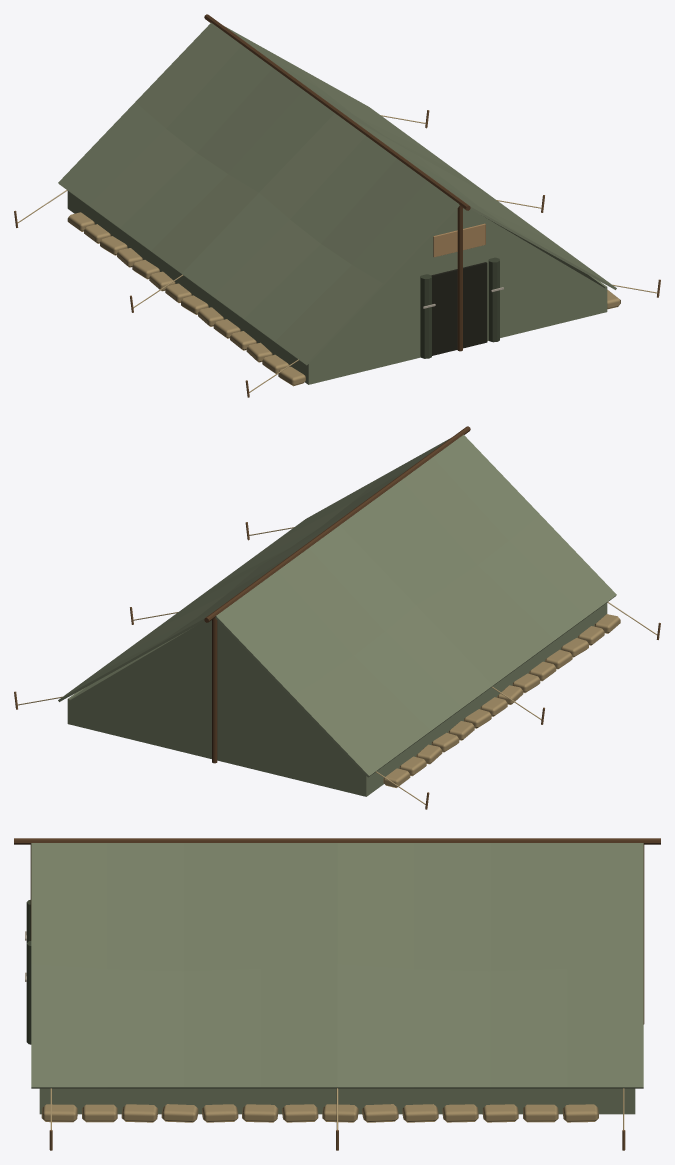
Rendered from TentCrew.glb.
The picture shows the model from 3 angles, top to bottom: view 1: azimuth 30°, elevation 25°; view 2: azimuth 150°, elevation 25°; view 3: azimuth 270°, elevation 25°; orthographic projection. The views are drawn at different scales.
Parts seen in each view (by area): view 1: TentCrew.001; view 2: TentCrew.001; view 3: TentCrew.001.
Boxes of the visible parts, box(x1,y1,x2,y2) form: TentCrew.001: box(14, 14, 660, 397); TentCrew.001: box(14, 426, 660, 809); TentCrew.001: box(14, 838, 660, 1150).
Bounding box in the file's own units: 10.35 × 3.63 × 11.3.
